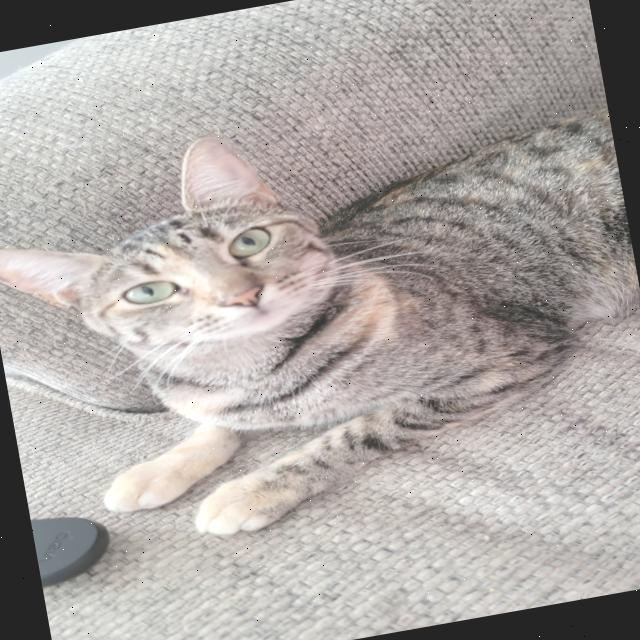domestic_short_hair_cat: (0, 97, 409, 414)
